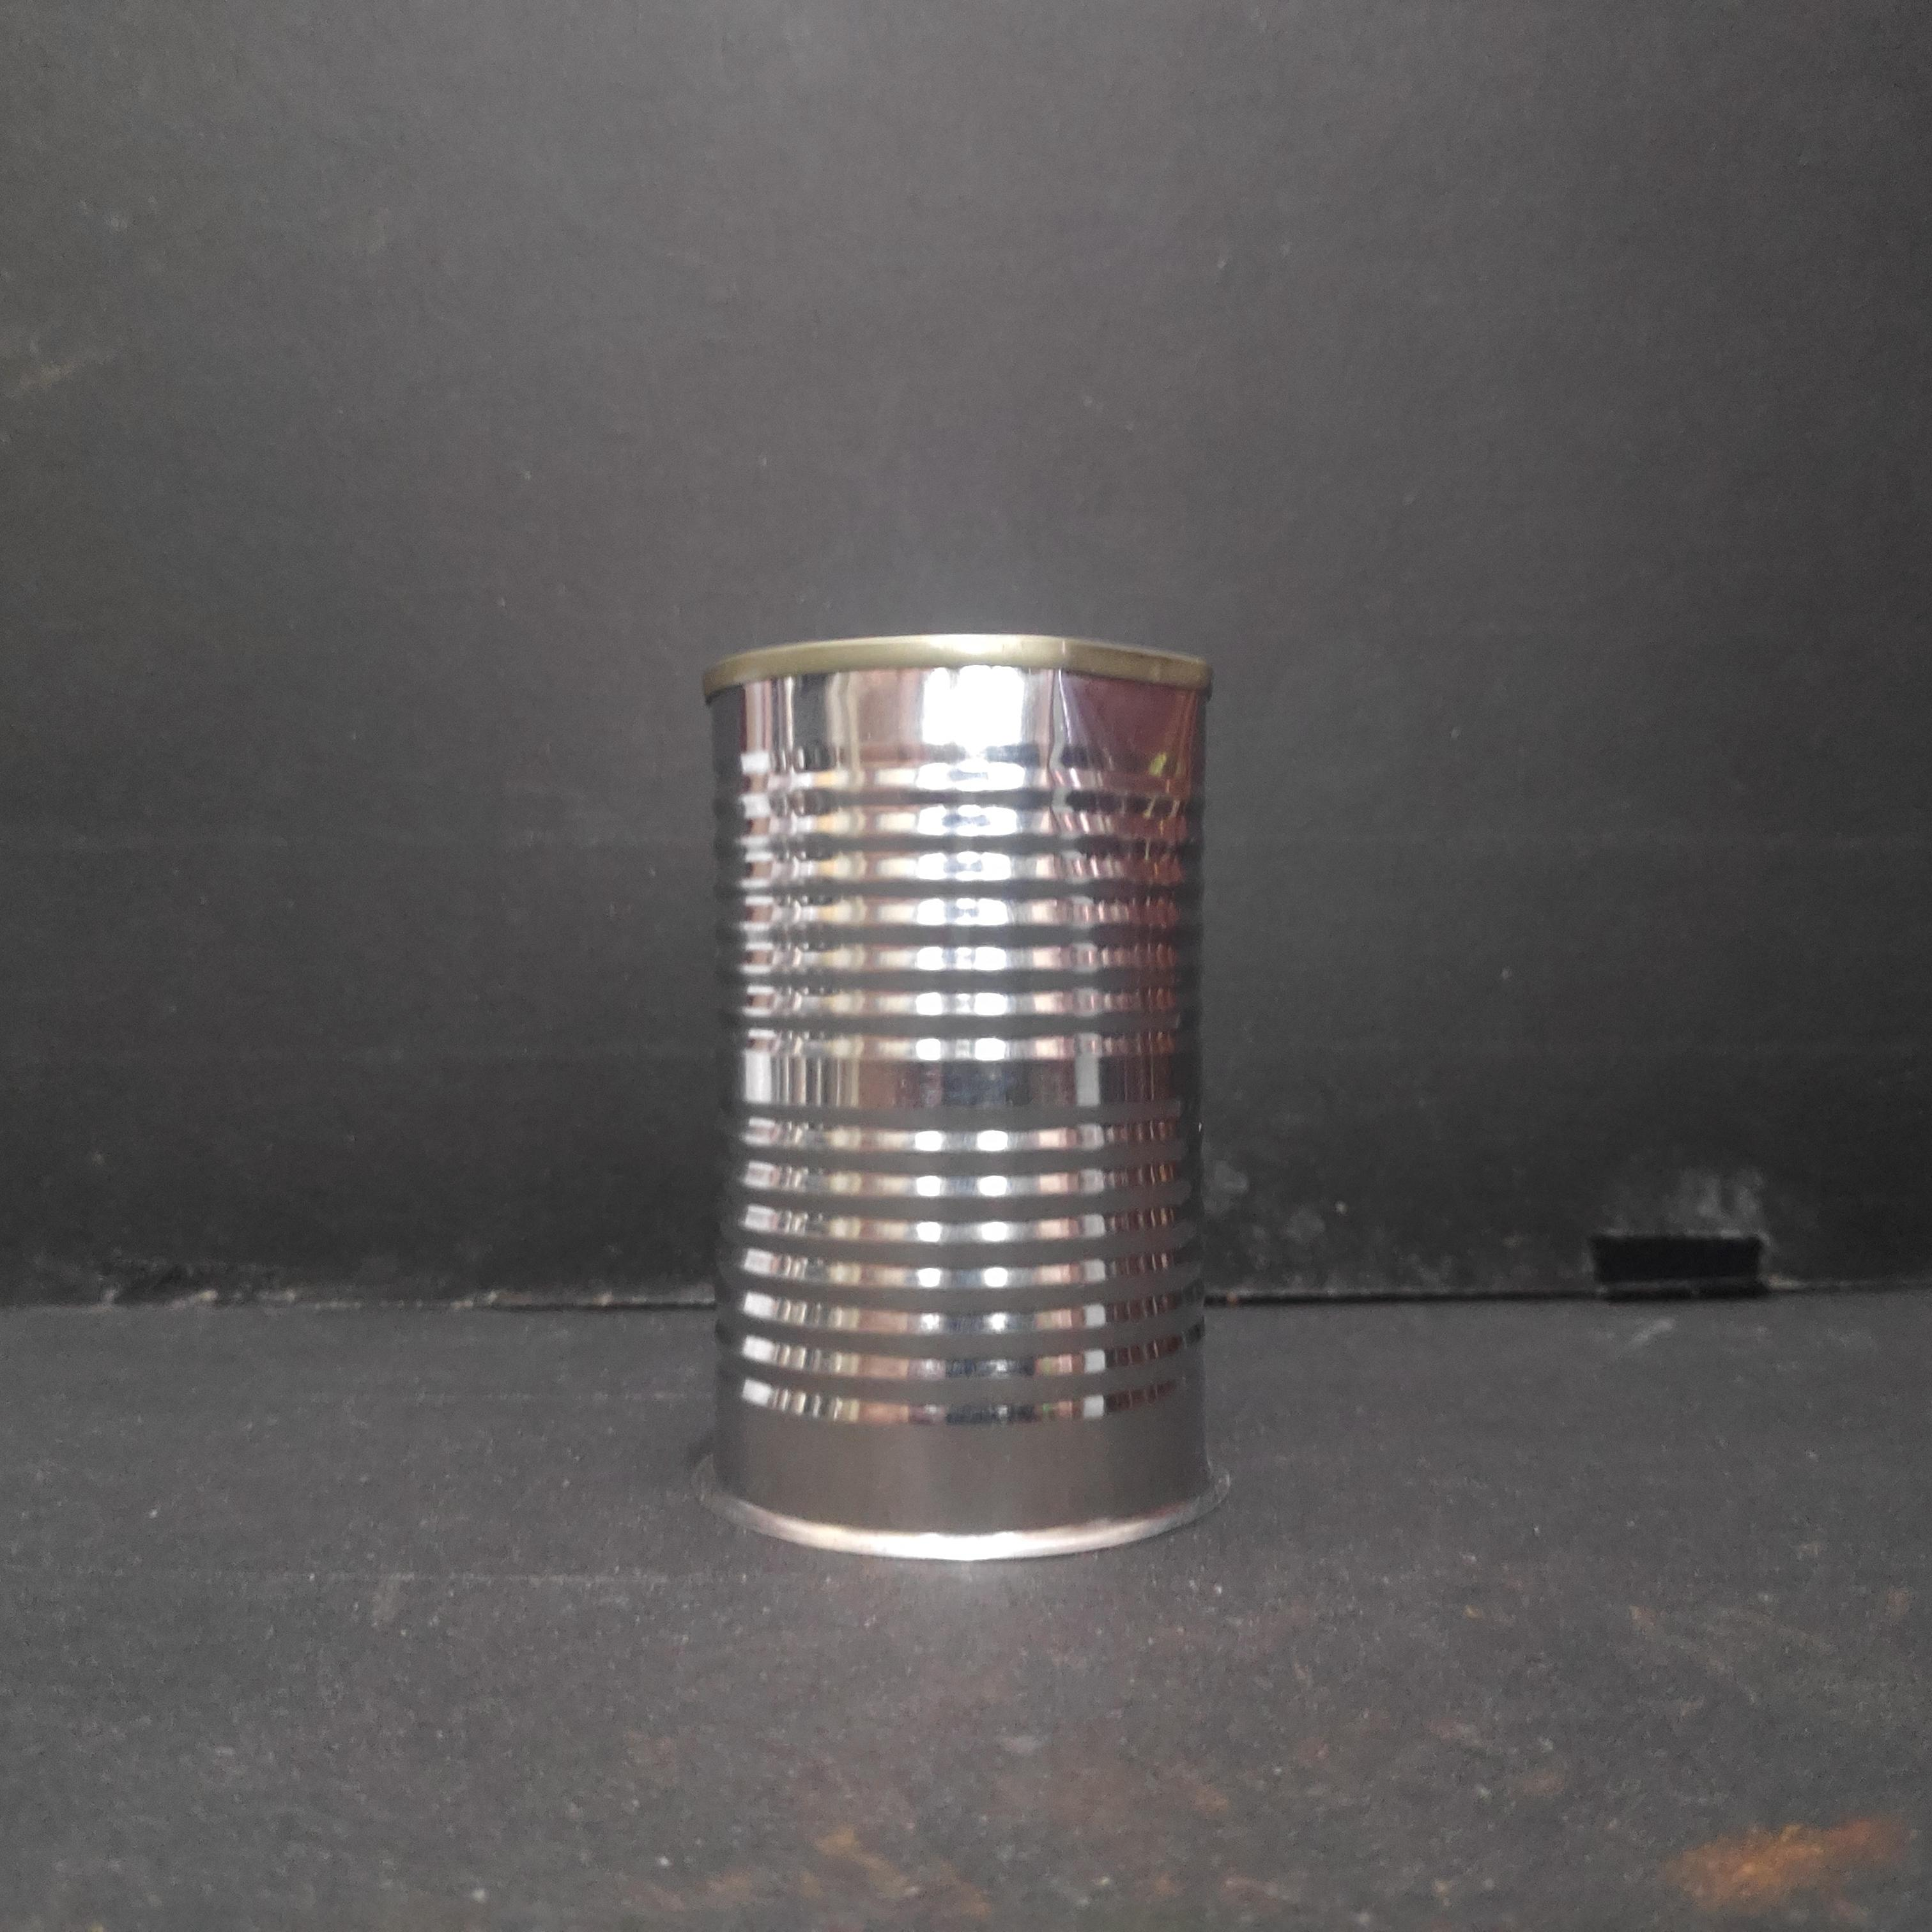Minor Defect: (694, 617, 1225, 1561)
